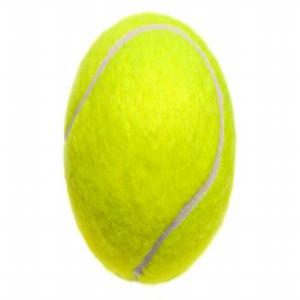Tennis: (60, 10, 240, 283)
